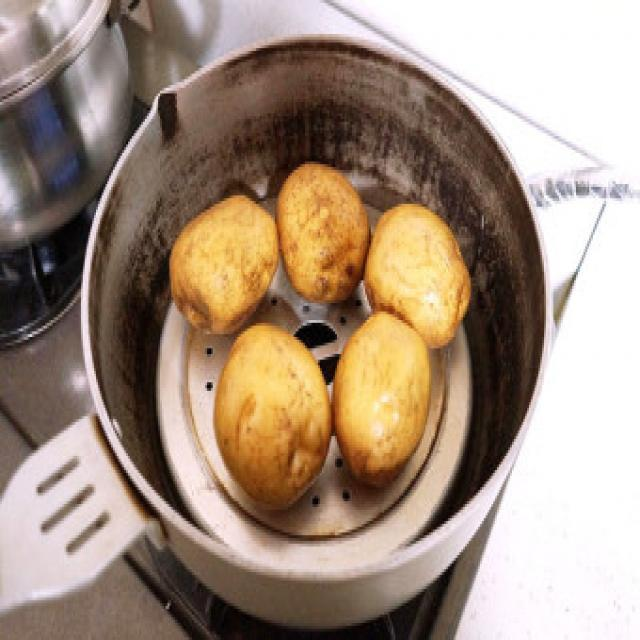potato: (214, 317, 336, 511), (329, 300, 431, 483), (166, 187, 284, 335), (364, 202, 474, 348), (277, 158, 369, 306)
